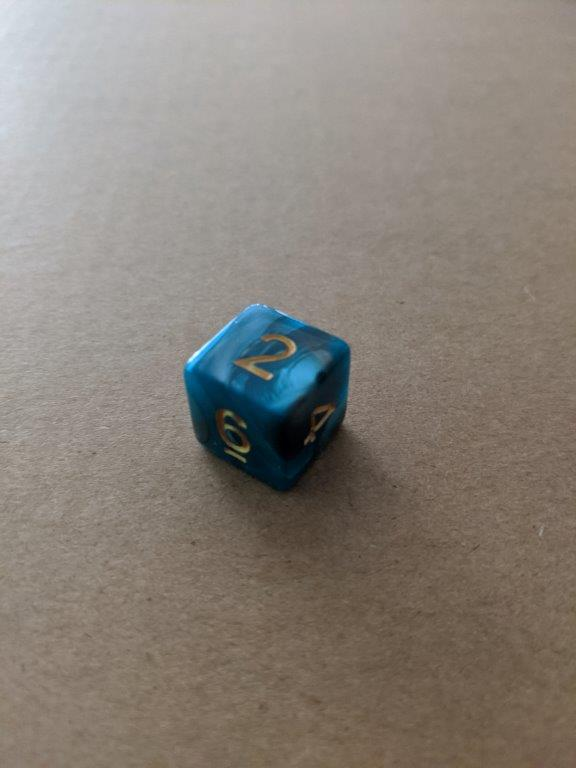d6-2: (183, 302, 350, 491)
